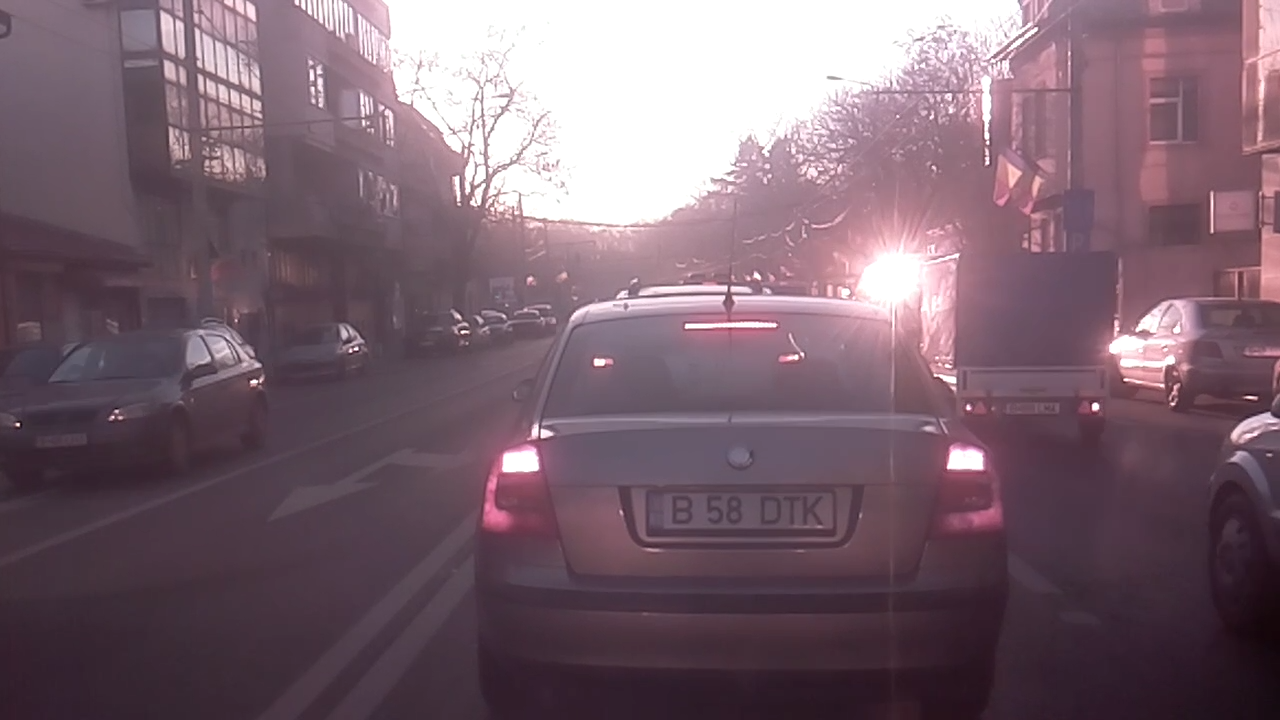license-plate: (639, 483, 841, 541)
